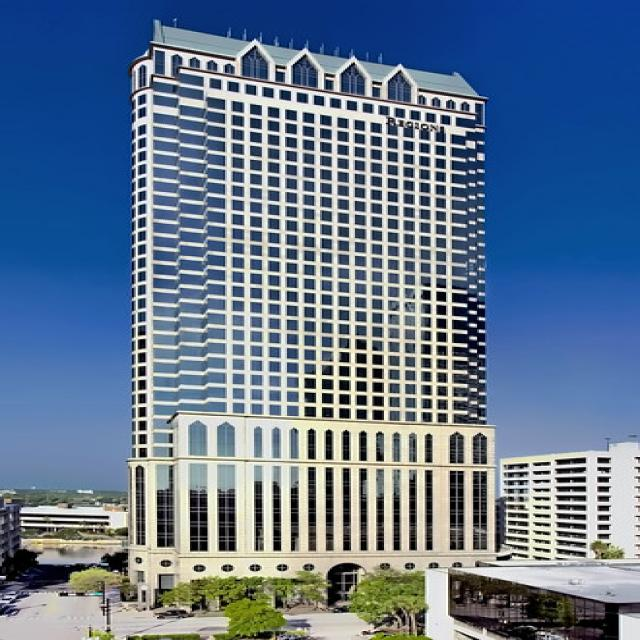Normal_building: (123, 16, 505, 583)
